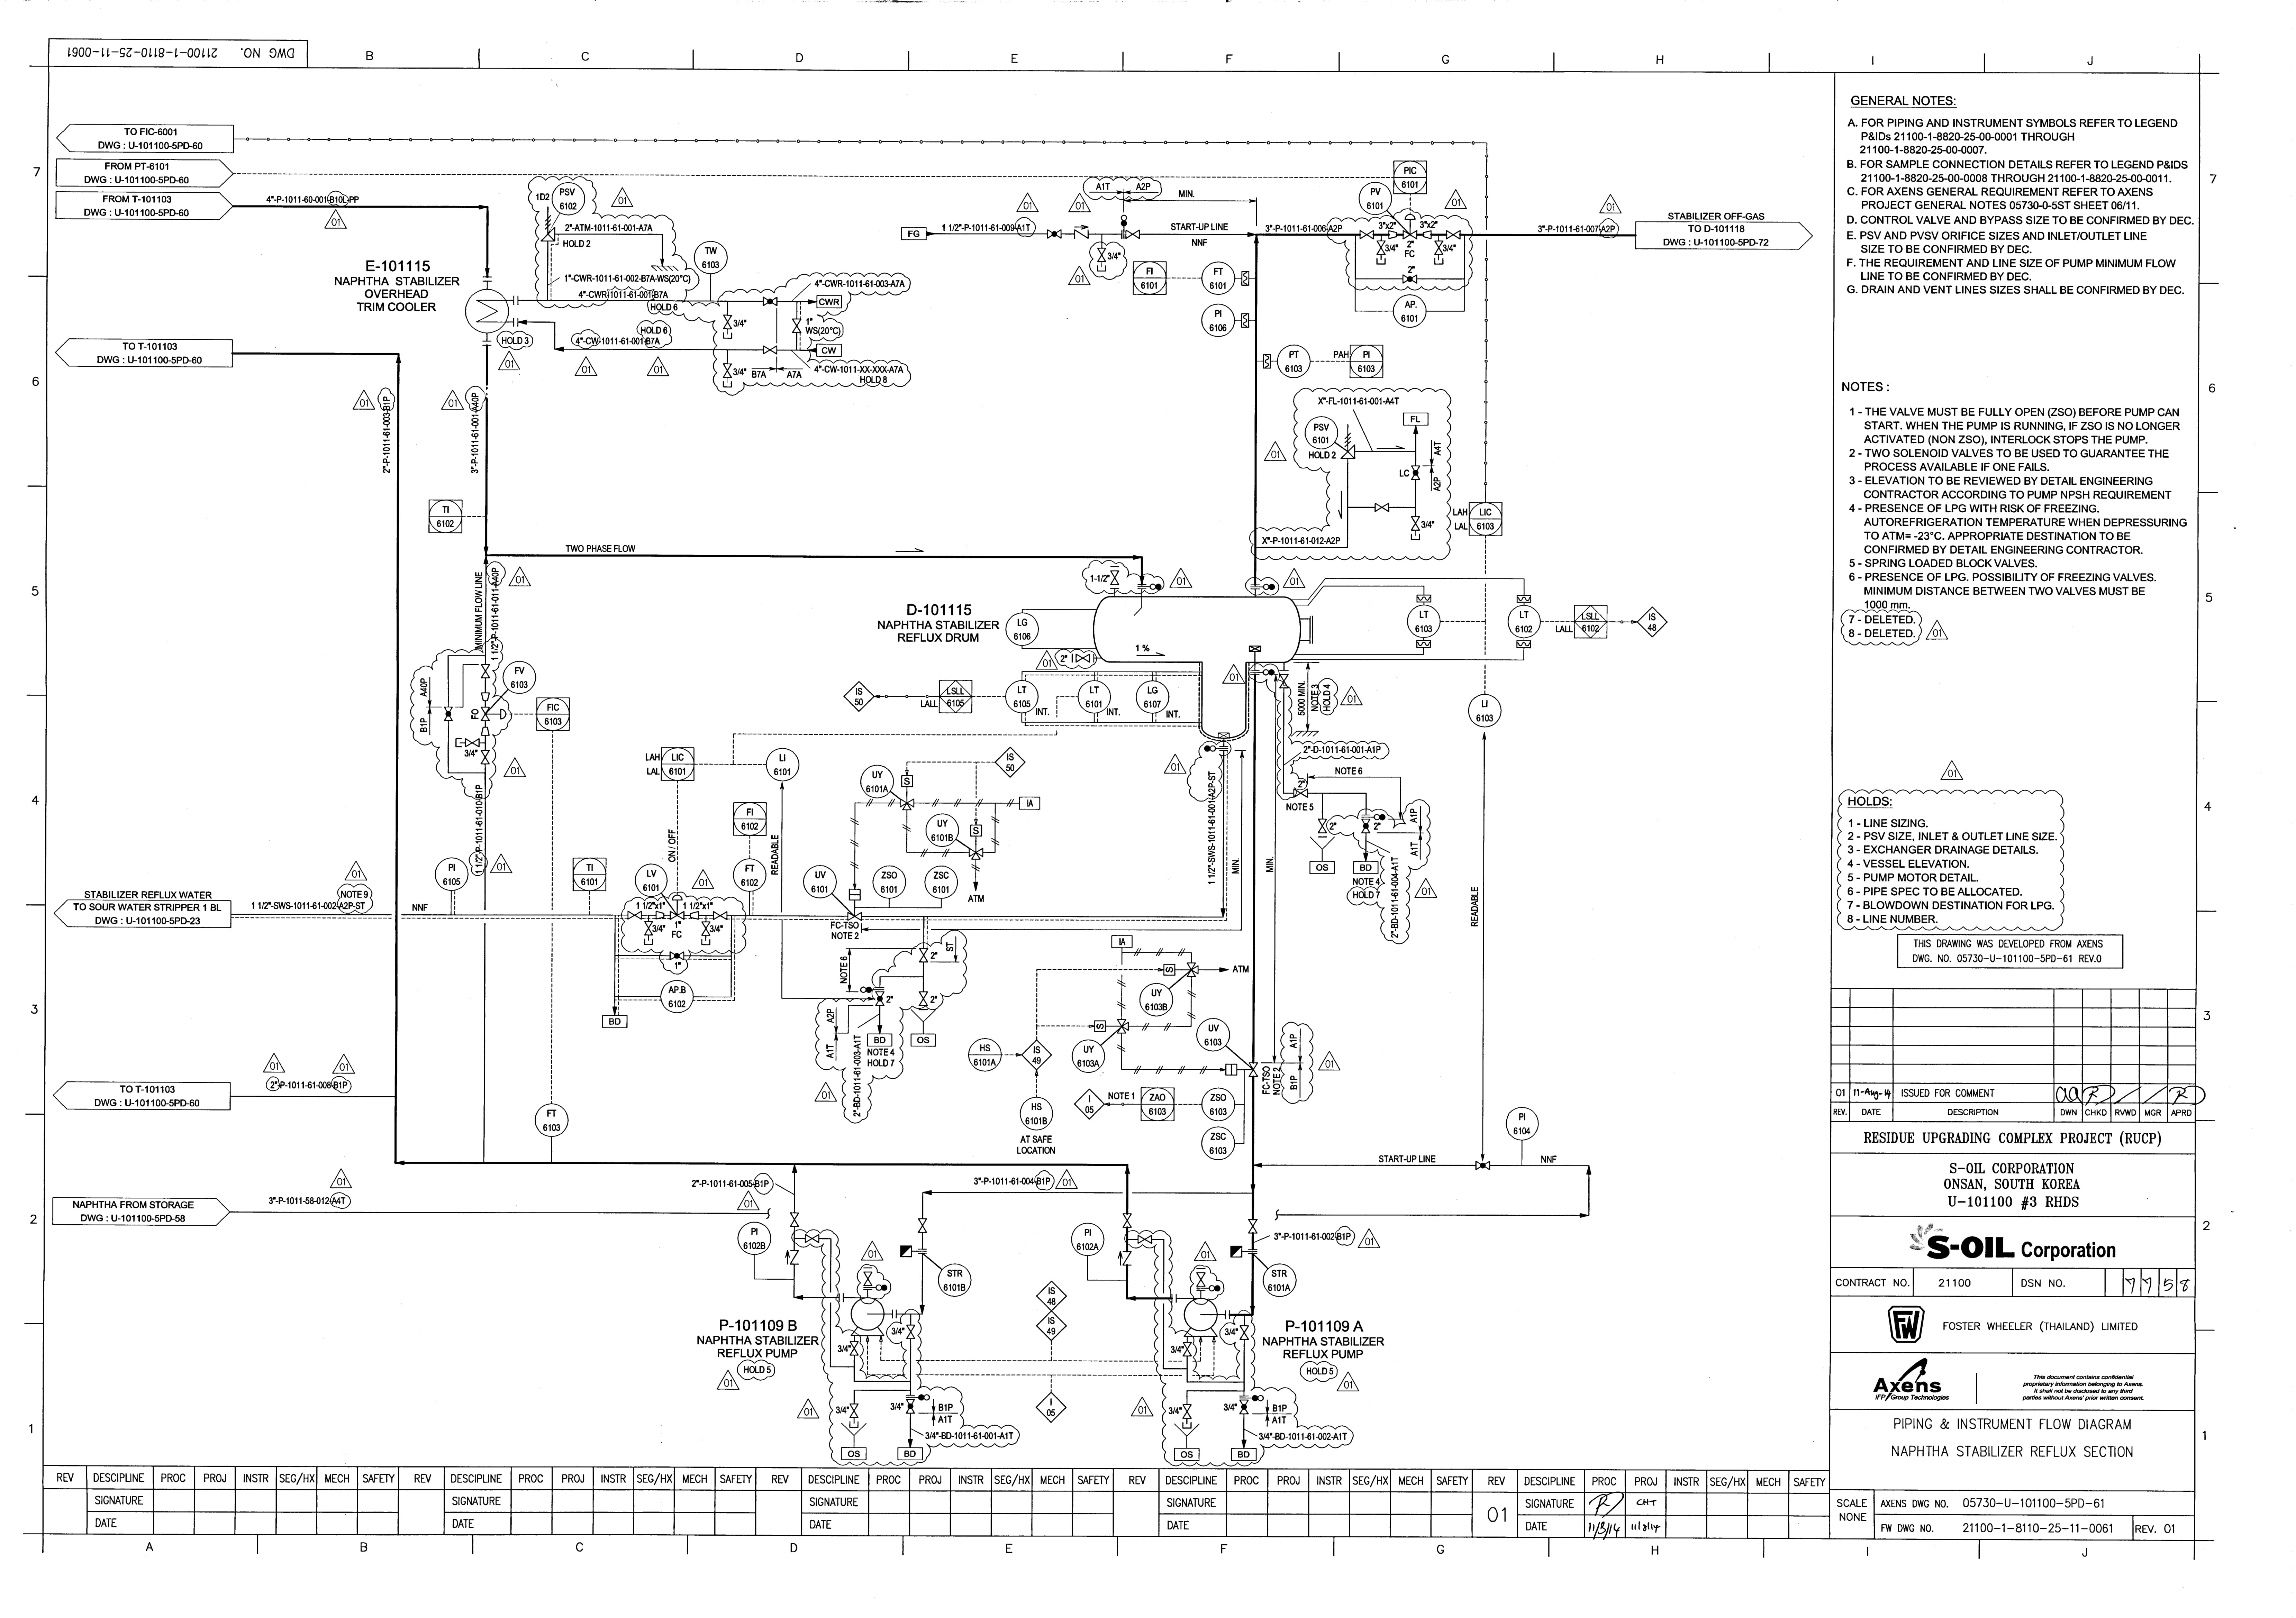NAS: (1222, 1059, 1261, 1082), (897, 772, 919, 811), (965, 823, 986, 862), (1156, 961, 1201, 979), (1088, 1019, 1133, 1037), (1261, 440, 1291, 466), (1182, 1322, 1219, 1343), (1401, 412, 1431, 433), (898, 1243, 928, 1261), (499, 331, 531, 347), (1228, 1243, 1259, 1259), (842, 904, 867, 923), (1338, 441, 1359, 462), (539, 226, 560, 245), (476, 266, 496, 285), (846, 884, 863, 904), (1259, 352, 1275, 371), (1249, 581, 1277, 592), (1074, 224, 1089, 242), (1117, 1249, 1133, 1266), (1515, 639, 1534, 651), (1247, 644, 1264, 655), (1415, 594, 1433, 604), (1515, 594, 1532, 604), (762, 1206, 774, 1221), (1415, 639, 1434, 648), (1215, 732, 1233, 741), (1168, 1292, 1180, 1305), (1343, 434, 1354, 448), (480, 338, 492, 348), (1375, 257, 1389, 266), (637, 224, 655, 231), (1410, 532, 1424, 541), (1434, 257, 1445, 266), (659, 257, 667, 268), (1222, 1310, 1231, 1320), (653, 137, 660, 142)
butterfly0: (1401, 273, 1419, 285), (1475, 1159, 1492, 1171), (760, 296, 779, 306), (1046, 229, 1063, 240), (669, 951, 685, 961)
butterfly90: (1410, 464, 1420, 482), (1361, 818, 1371, 835), (905, 1397, 916, 1415), (443, 706, 454, 723), (1238, 1399, 1249, 1415), (876, 991, 884, 1007)
reduce0: (1387, 229, 1398, 240), (655, 911, 666, 919)
reduce180: (1422, 229, 1433, 240), (690, 911, 701, 921)
reduce270: (480, 692, 490, 702)
reduce90: (480, 725, 492, 737)
valvecontrol0: (480, 706, 508, 723)
valvecontrol90: (669, 891, 687, 921)
valvegate0: (1373, 501, 1392, 515), (1445, 229, 1462, 242), (1291, 788, 1310, 798), (625, 911, 644, 921), (762, 345, 779, 355), (1359, 229, 1377, 240), (1074, 653, 1091, 664), (1137, 1235, 1154, 1245), (804, 1233, 821, 1243), (711, 911, 729, 921), (464, 737, 482, 748), (1124, 229, 1140, 240)
valvegate90: (1403, 214, 1419, 242), (1247, 1217, 1259, 1236), (722, 313, 734, 331), (1410, 515, 1422, 532), (1121, 1212, 1133, 1229), (862, 1270, 874, 1287), (848, 1340, 860, 1357), (916, 1217, 928, 1235), (480, 664, 492, 679), (722, 362, 732, 380), (792, 317, 802, 334), (1096, 247, 1107, 264), (1434, 240, 1445, 257), (1278, 672, 1289, 690), (1317, 818, 1328, 835), (1182, 1403, 1193, 1420), (790, 1210, 800, 1228), (905, 1324, 916, 1341), (918, 989, 928, 1007), (643, 919, 653, 937), (701, 919, 711, 937), (1377, 240, 1387, 256), (1182, 1341, 1193, 1357), (1196, 1271, 1207, 1287), (918, 947, 928, 963), (480, 749, 490, 765), (1110, 569, 1119, 587), (849, 1403, 858, 1420), (1240, 1324, 1249, 1341)
